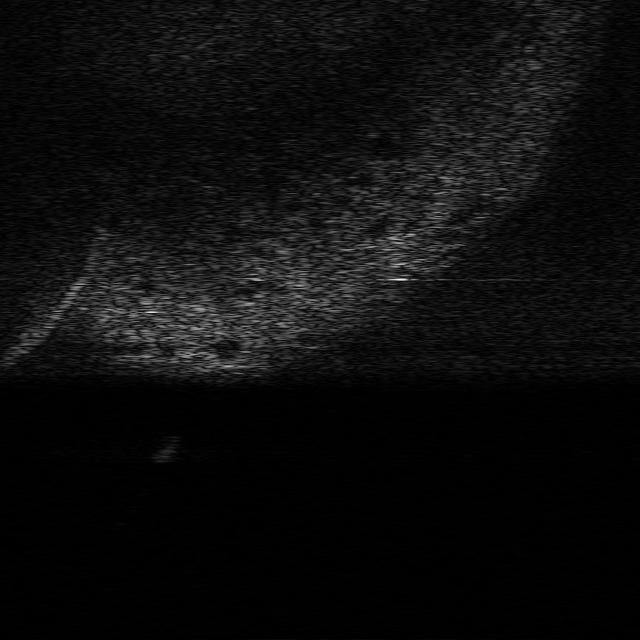cylinder: (148, 432, 186, 464)
